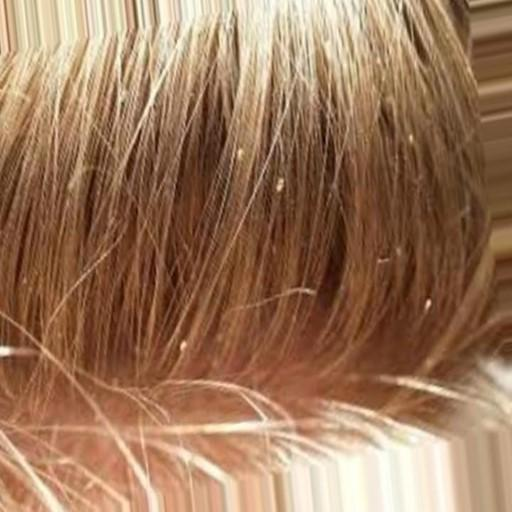Head_Lice: (270, 176, 292, 196), (420, 296, 436, 317), (175, 339, 193, 356), (403, 128, 417, 149), (236, 148, 248, 161)
